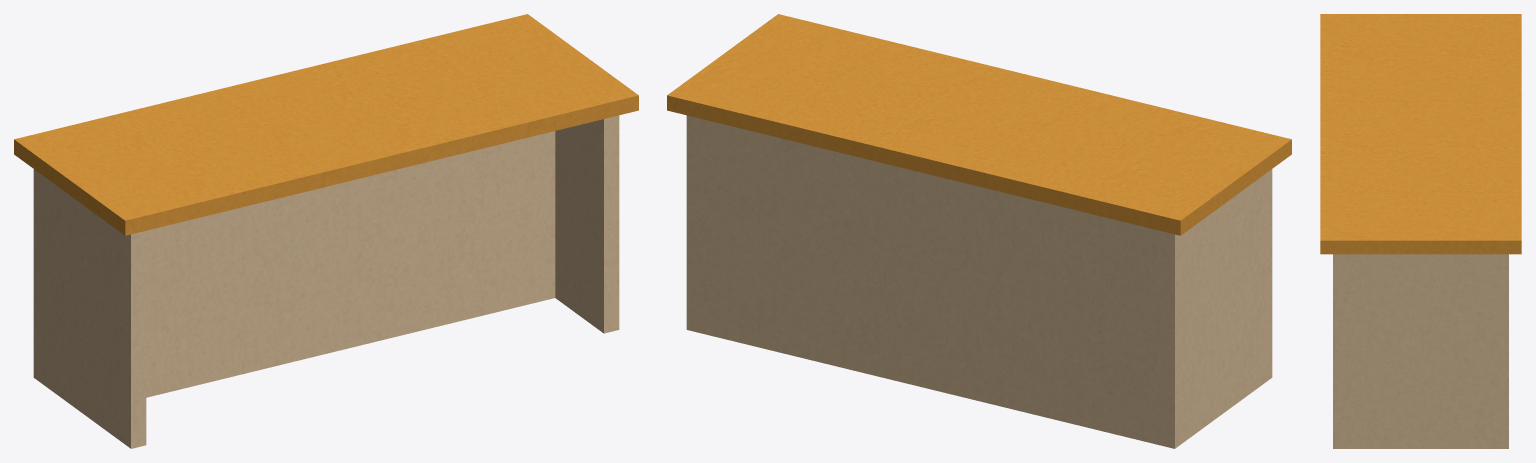
File: Table3_2.fbx
3 renders of one model, left to right at view 1: azimuth 30°, elevation 25°; view 2: azimuth 150°, elevation 25°; view 3: azimuth 270°, elevation 25°, orthographic. The views are drawn at different scales.
Visible parts, largest first — view 1: Table3_2; view 2: Table3_2; view 3: Table3_2.
Part boxes in pixels (x1=…): Table3_2: x1=14, y1=14, x2=638, y2=448; Table3_2: x1=667, y1=14, x2=1291, y2=448; Table3_2: x1=1320, y1=14, x2=1521, y2=448.
Size of the model in its own units: 2 by 0.8797 by 0.75.
